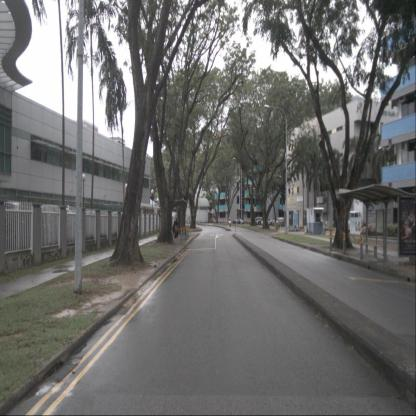human-pedestrian-adult: (172, 221, 177, 239), (175, 217, 179, 239)
vehicle-car: (255, 217, 269, 225), (261, 218, 272, 226)
vehicle-truck: (345, 197, 394, 234)
